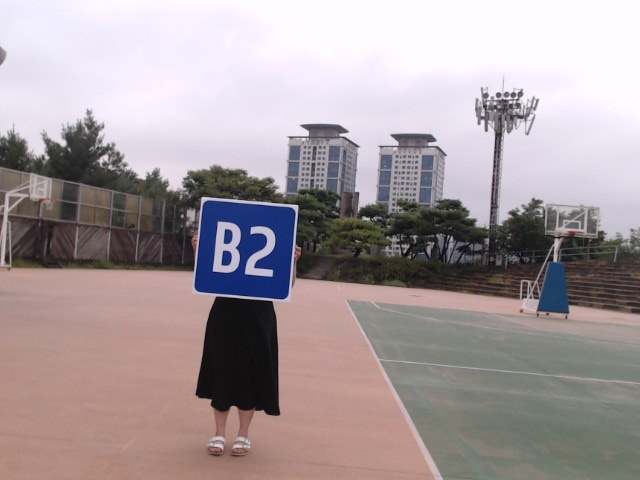delivery_b2: (192, 201, 297, 300)
